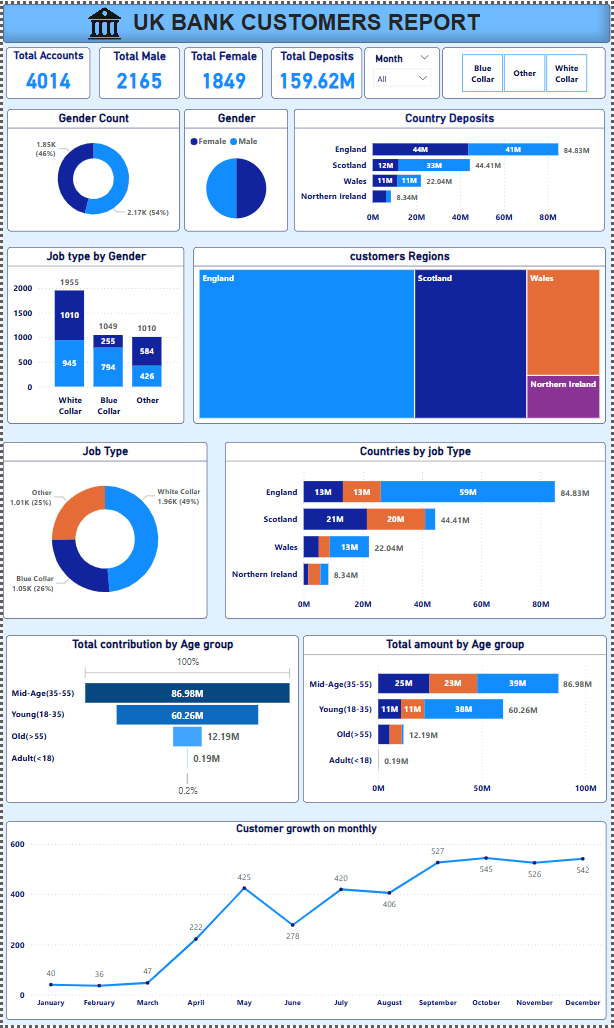

The dashboard page shown, as its layout file describes it:
{"tool":"powerbi","page":{"name":"Page 1","canvas":[880,1480],"ordinal":0},"visuals":[{"type":"donutChart","title":" Gender Count","fields":{"Category":["P6-UK-Bank-Customers.Gender"],"Y":["Count(P6-UK-Bank-Customers.Customer ID)"]},"box":[7,152,249,177],"z":0},{"type":"pieChart","title":" Gender","fields":{"Category":["P6-UK-Bank-Customers.Gender"],"Y":["calculations.slicer gender"]},"box":[263,153,150,177],"z":1000},{"type":"treemap","title":" customers Regions","fields":{"Group":["P6-UK-Bank-Customers.Region"],"Values":["Count(P6-UK-Bank-Customers.Customer ID)"]},"box":[275,352,597,256],"z":2000},{"type":"columnChart","title":"Job type by Gender","fields":{"Y":["calculations.Total_Male_customers","calculations.Total_Female_customers"],"Category":["P6-UK-Bank-Customers.Job Classification"]},"box":[7,352,256,256],"z":3000},{"type":"lineChart","title":"Customer growth on monthly","fields":{"Category":["P6-UK-Bank-Customers.Date Joined.Variation.Date Hierarchy.Month","P6-UK-Bank-Customers.Date Joined.Variation.Date Hierarchy.Day"],"Y":["CountNonNull(P6-UK-Bank-Customers.Customer ID)"]},"box":[5,1185,870,287],"z":4000},{"type":"barChart","title":"Countries by job Type","fields":{"Category":["P6-UK-Bank-Customers.Region"],"Series":["P6-UK-Bank-Customers.Job Classification"],"Y":["calculations.total deposits"]},"box":[321,634,551,256],"z":5000},{"type":"funnel","title":"Total contribution by Age group","fields":{"Category":["P6-UK-Bank-Customers.Age Category"],"Y":["Sum(P6-UK-Bank-Customers.Balance)"]},"box":[5,915,424,242],"z":6000},{"type":"slicer","fields":{"Values":["P6-UK-Bank-Customers.Date Joined.Variation.Date Hierarchy.Month"]},"box":[524,63,109,74],"z":7000},{"type":"textbox","box":[0,0,880,56],"z":8000},{"type":"card","title":"Total Accounts","fields":{"Values":["CountNonNull(P6-UK-Bank-Customers.Customer ID)"]},"box":[5,63,122,74],"z":9000},{"type":"barChart","title":"Country  Deposits","fields":{"Category":["P6-UK-Bank-Customers.Region"],"Y":["calculations.total deposits"],"Series":["P6-UK-Bank-Customers.Gender"]},"box":[422,153,450,177],"z":10000},{"type":"donutChart","title":"Job Type","fields":{"Y":["Count(P6-UK-Bank-Customers.Customer ID)"],"Category":["P6-UK-Bank-Customers.Job Classification"]},"box":[0,634,296,256],"z":11000},{"type":"slicer","fields":{"Values":["P6-UK-Bank-Customers.Job Classification"]},"box":[636,63,236,74],"z":12000},{"type":"image","box":[95,0,103,56],"z":13000},{"type":"card","title":"Total Male ","fields":{"Values":["calculations.Total_Male_customers"]},"box":[139,63,117,74],"z":14000},{"type":"card","title":"Total Female","fields":{"Values":["calculations.Total_Female_customers"]},"box":[264,63,113,74],"z":15000},{"type":"card","title":"Total Deposits","fields":{"Values":["Sum(P6-UK-Bank-Customers.Balance)"]},"box":[389,63,131,74],"z":16000},{"type":"barChart","title":"Total amount by Age group","fields":{"Category":["P6-UK-Bank-Customers.Age Category"],"Series":["P6-UK-Bank-Customers.Job Classification"],"Y":["calculations.total deposits"]},"box":[435,915,440,242],"z":17000}]}

Visuals, with their boxes in screenshot pixels (x1, y1, x2, y2), scaled from the page's 880x1480 canvas onto the 614x1028 screenshot:
" Gender Count" donutChart: l=5, t=106, r=179, b=229
" Gender" pieChart: l=184, t=106, r=288, b=229
" customers Regions" treemap: l=192, t=244, r=608, b=422
"Job type by Gender" columnChart: l=5, t=244, r=184, b=422
"Customer growth on monthly" lineChart: l=3, t=823, r=611, b=1022
"Countries by job Type" barChart: l=224, t=440, r=608, b=618
"Total contribution by Age group" funnel: l=3, t=636, r=299, b=804
slicer - P6-UK-Bank-Customers.Date Joined.Variation.Date Hierarchy.Month: l=366, t=44, r=442, b=95
textbox: l=0, t=0, r=613, b=39
"Total Accounts" card: l=3, t=44, r=89, b=95
"Country  Deposits" barChart: l=294, t=106, r=608, b=229
"Job Type" donutChart: l=0, t=440, r=207, b=618
slicer - P6-UK-Bank-Customers.Job Classification: l=444, t=44, r=608, b=95
image: l=66, t=0, r=138, b=39
"Total Male " card: l=97, t=44, r=179, b=95
"Total Female" card: l=184, t=44, r=263, b=95
"Total Deposits" card: l=271, t=44, r=363, b=95
"Total amount by Age group" barChart: l=304, t=636, r=611, b=804
